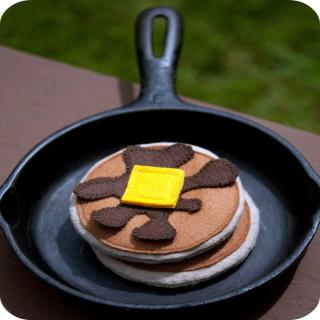Pancake: (70, 142, 243, 262)
